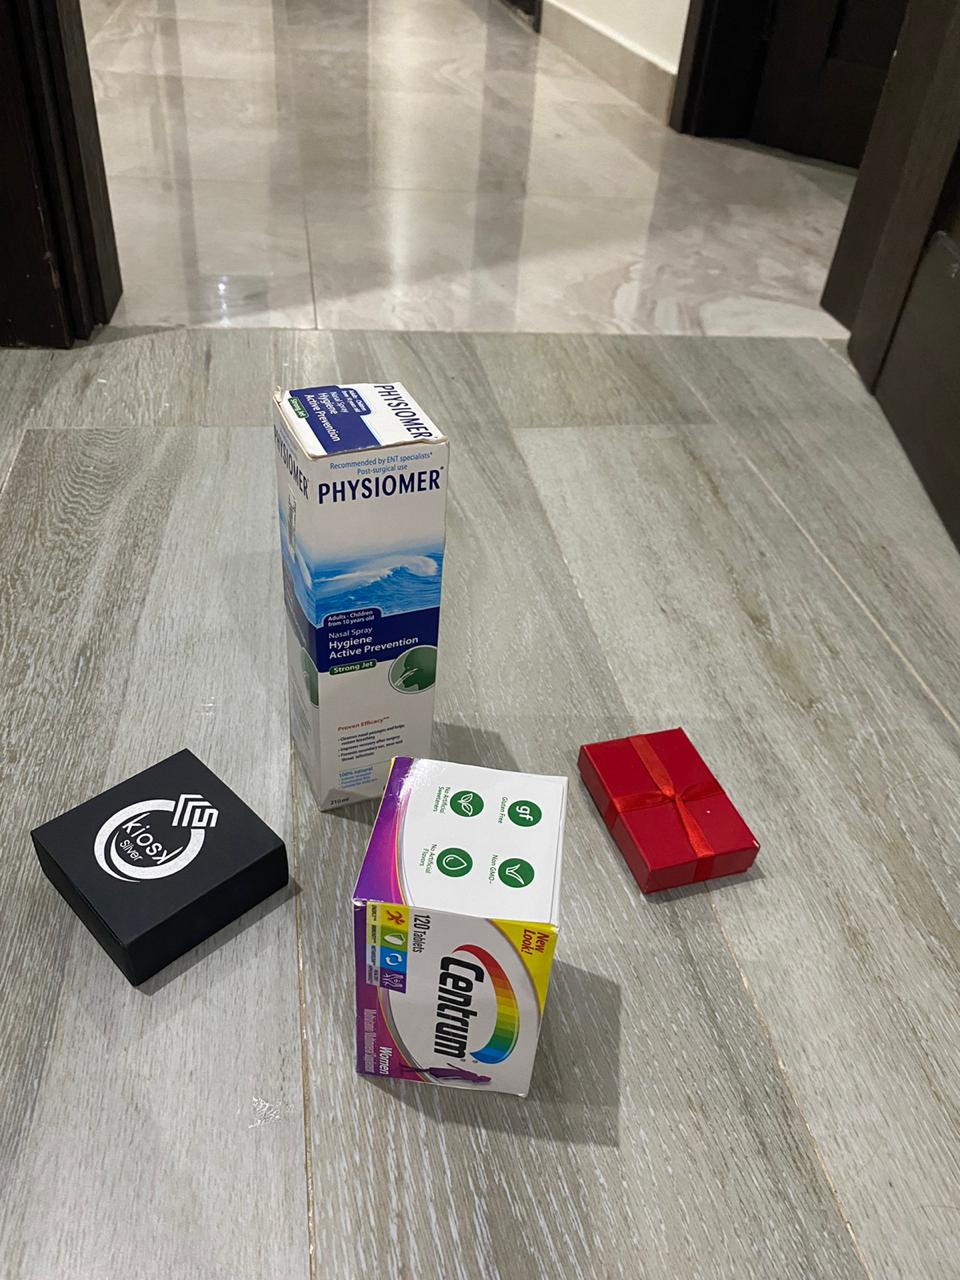Black Box: (578, 730, 762, 901)
Centrum: (350, 755, 573, 1107)
Physiomer: (273, 378, 458, 812)
Red Box: (30, 745, 294, 987)
